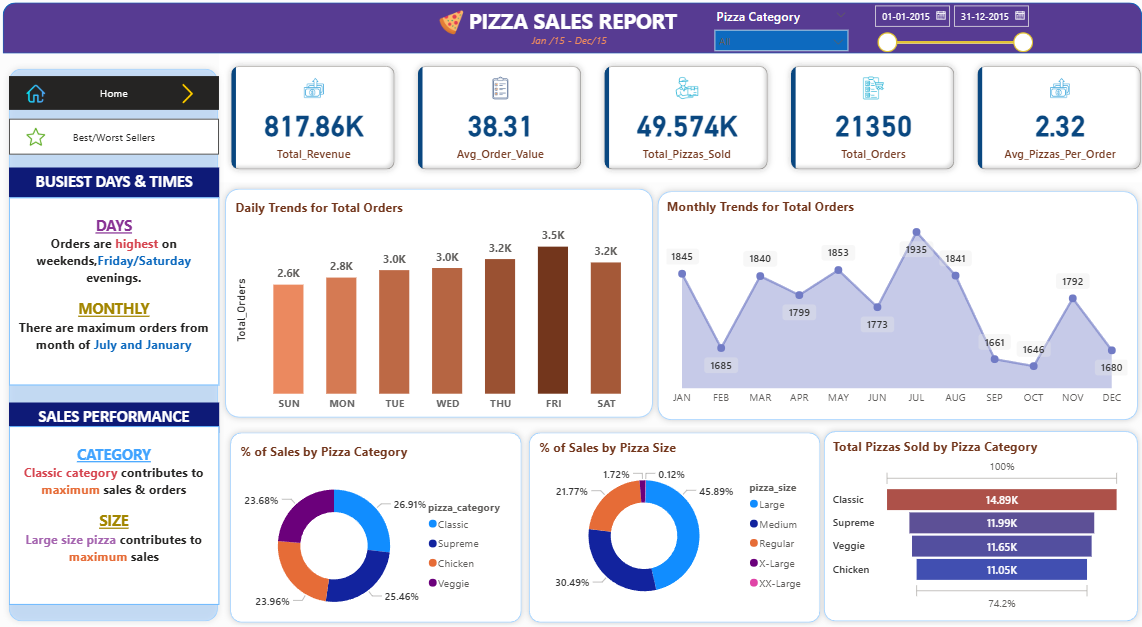

The page's visual inventory and layout, read from the dashboard file:
{"tool":"powerbi","page":{"name":"Home","canvas":[1500,820],"ordinal":0},"visuals":[{"type":"cardVisual","fields":{"Data":["pizza_sales.Total_Revenue","pizza_sales.Avg_Order_Value","pizza_sales.Total_Pizzas_Sold","pizza_sales.Total_Orders","pizza_sales.Avg_Pizzas_Per_Order"]},"box":[295.9,75.6,1204.4,165.6],"z":0},{"type":"shape","box":[17.9,10.4,1465.7,65.7],"z":1000},{"type":"textbox","box":[606,10.4,289.6,49.3],"z":2000},{"type":"textbox","box":[692.5,43.3,116.4,28.4],"z":3000},{"type":"image","box":[568.7,14.9,50.7,41.8],"z":4000},{"type":"shape","box":[295.9,241.2,566,310.4],"z":5000},{"type":"columnChart","title":" Daily Trends for Total Orders","fields":{"Category":["pizza_sales.Order Day"],"Y":["pizza_sales.Total_Orders"]},"box":[312,262.1,535.5,283],"z":6000},{"type":"shape","box":[852.3,244.4,633.6,310.4],"z":7000},{"type":"areaChart","title":"Monthly Trends for Total Orders","fields":{"Category":["pizza_sales.Order Month"],"Y":["pizza_sales.Total_Orders"]},"box":[866.7,260.5,603,276.6],"z":8000},{"type":"shape","box":[302.3,554.8,390.8,260.5],"z":9000},{"type":"shape","box":[686.6,554.8,390.8,260.5],"z":10000},{"type":"shape","box":[1066.1,553.2,419.7,260.5],"z":11000},{"type":"donutChart","title":"% of Sales by Pizza Category","fields":{"Category":["pizza_sales.pizza_category"],"Y":["pizza_sales.Total_Revenue"]},"box":[318.4,575.7,360.2,244.4],"z":12000},{"type":"shape","box":[17.7,86.8,284.6,726.8],"z":13000},{"type":"donutChart","title":"% of Sales by Pizza Size","fields":{"Category":["pizza_sales.pizza_size"],"Y":["pizza_sales.Total_Revenue"]},"box":[702.7,570.9,360.2,228.3],"z":14000},{"type":"funnel","title":"Total Pizzas Sold by Pizza Category","fields":{"Category":["pizza_sales.pizza_category"],"Y":["pizza_sales.Total_Pizzas_Sold"]},"box":[1080.7,569.6,380.2,228.4],"z":15000},{"type":"textbox","box":[25.7,221.9,270.2,38.6],"z":16000},{"type":"textbox","box":[25.7,260.5,270.2,241.2],"z":17000},{"type":"textbox","box":[25.7,524.2,270.2,38.6],"z":18000},{"type":"textbox","box":[25.7,554.8,270.2,230],"z":19000},{"type":"slicer","fields":{"Values":["pizza_sales.pizza_category"]},"box":[923.3,11.1,192.2,61.3],"z":20000},{"type":"slicer","fields":{"Values":["pizza_sales.order_date"]},"box":[1126.7,2.8,224.2,114.2],"z":21000},{"type":"pageNavigator","box":[25.7,104.5,270.2,43.4],"z":21001},{"type":"pageNavigator","box":[25.7,159.2,270.2,46.6],"z":21002},{"type":"image","box":[228.3,109.3,54.7,35.4],"z":21003},{"type":"image","box":[43.4,106.1,33.8,41.8],"z":21004},{"type":"image","box":[43.4,164,33.8,37],"z":21005}]}

Visuals, with their boxes in screenshot pixels (x1, y1, x2, y2), scaled from the page's 1500x820 canvas onto the 1142x627 screenshot:
cardVisual - pizza_sales.Total_Revenue x pizza_sales.Avg_Order_Value: left=225, top=58, right=1141, bottom=184
shape: left=14, top=8, right=1130, bottom=58
textbox: left=461, top=8, right=682, bottom=46
textbox: left=527, top=33, right=616, bottom=55
image: left=433, top=11, right=472, bottom=43
shape: left=225, top=184, right=656, bottom=422
" Daily Trends for Total Orders" columnChart: left=238, top=200, right=645, bottom=417
shape: left=649, top=187, right=1131, bottom=424
"Monthly Trends for Total Orders" areaChart: left=660, top=199, right=1119, bottom=411
shape: left=230, top=424, right=528, bottom=623
shape: left=523, top=424, right=820, bottom=623
shape: left=812, top=423, right=1131, bottom=622
"% of Sales by Pizza Category" donutChart: left=242, top=440, right=517, bottom=626
shape: left=13, top=66, right=230, bottom=622
"% of Sales by Pizza Size" donutChart: left=535, top=437, right=809, bottom=611
"Total Pizzas Sold by Pizza Category" funnel: left=823, top=436, right=1112, bottom=610
textbox: left=20, top=170, right=225, bottom=199
textbox: left=20, top=199, right=225, bottom=384
textbox: left=20, top=401, right=225, bottom=430
textbox: left=20, top=424, right=225, bottom=600
slicer - pizza_sales.pizza_category: left=703, top=8, right=849, bottom=55
slicer - pizza_sales.order_date: left=858, top=2, right=1028, bottom=89
pageNavigator: left=20, top=80, right=225, bottom=113
pageNavigator: left=20, top=122, right=225, bottom=157
image: left=174, top=84, right=215, bottom=111
image: left=33, top=81, right=59, bottom=113
image: left=33, top=125, right=59, bottom=154
